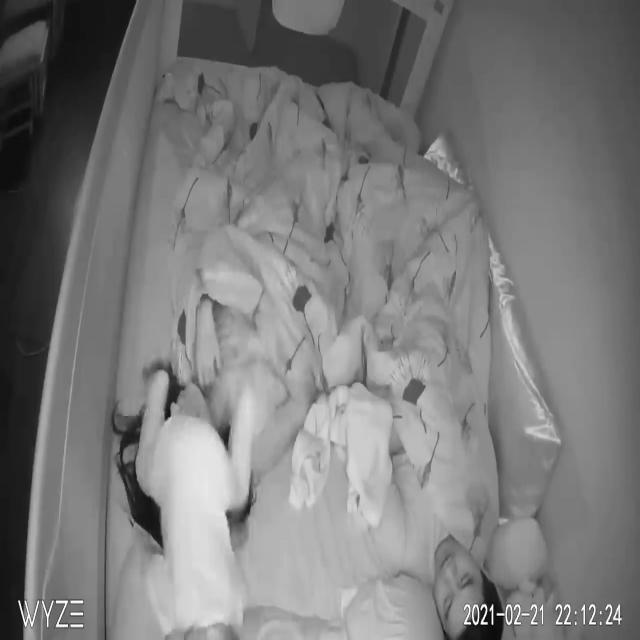baby: (136, 371, 264, 639)
